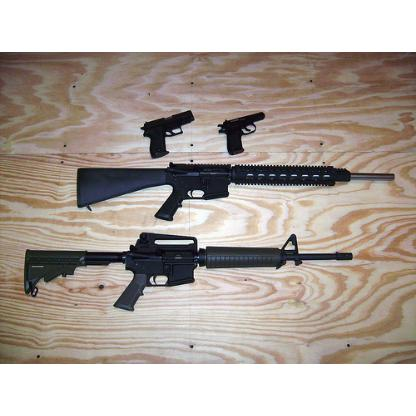gun: (23, 232, 353, 312), (73, 164, 395, 224), (139, 106, 194, 158), (219, 110, 265, 154)
